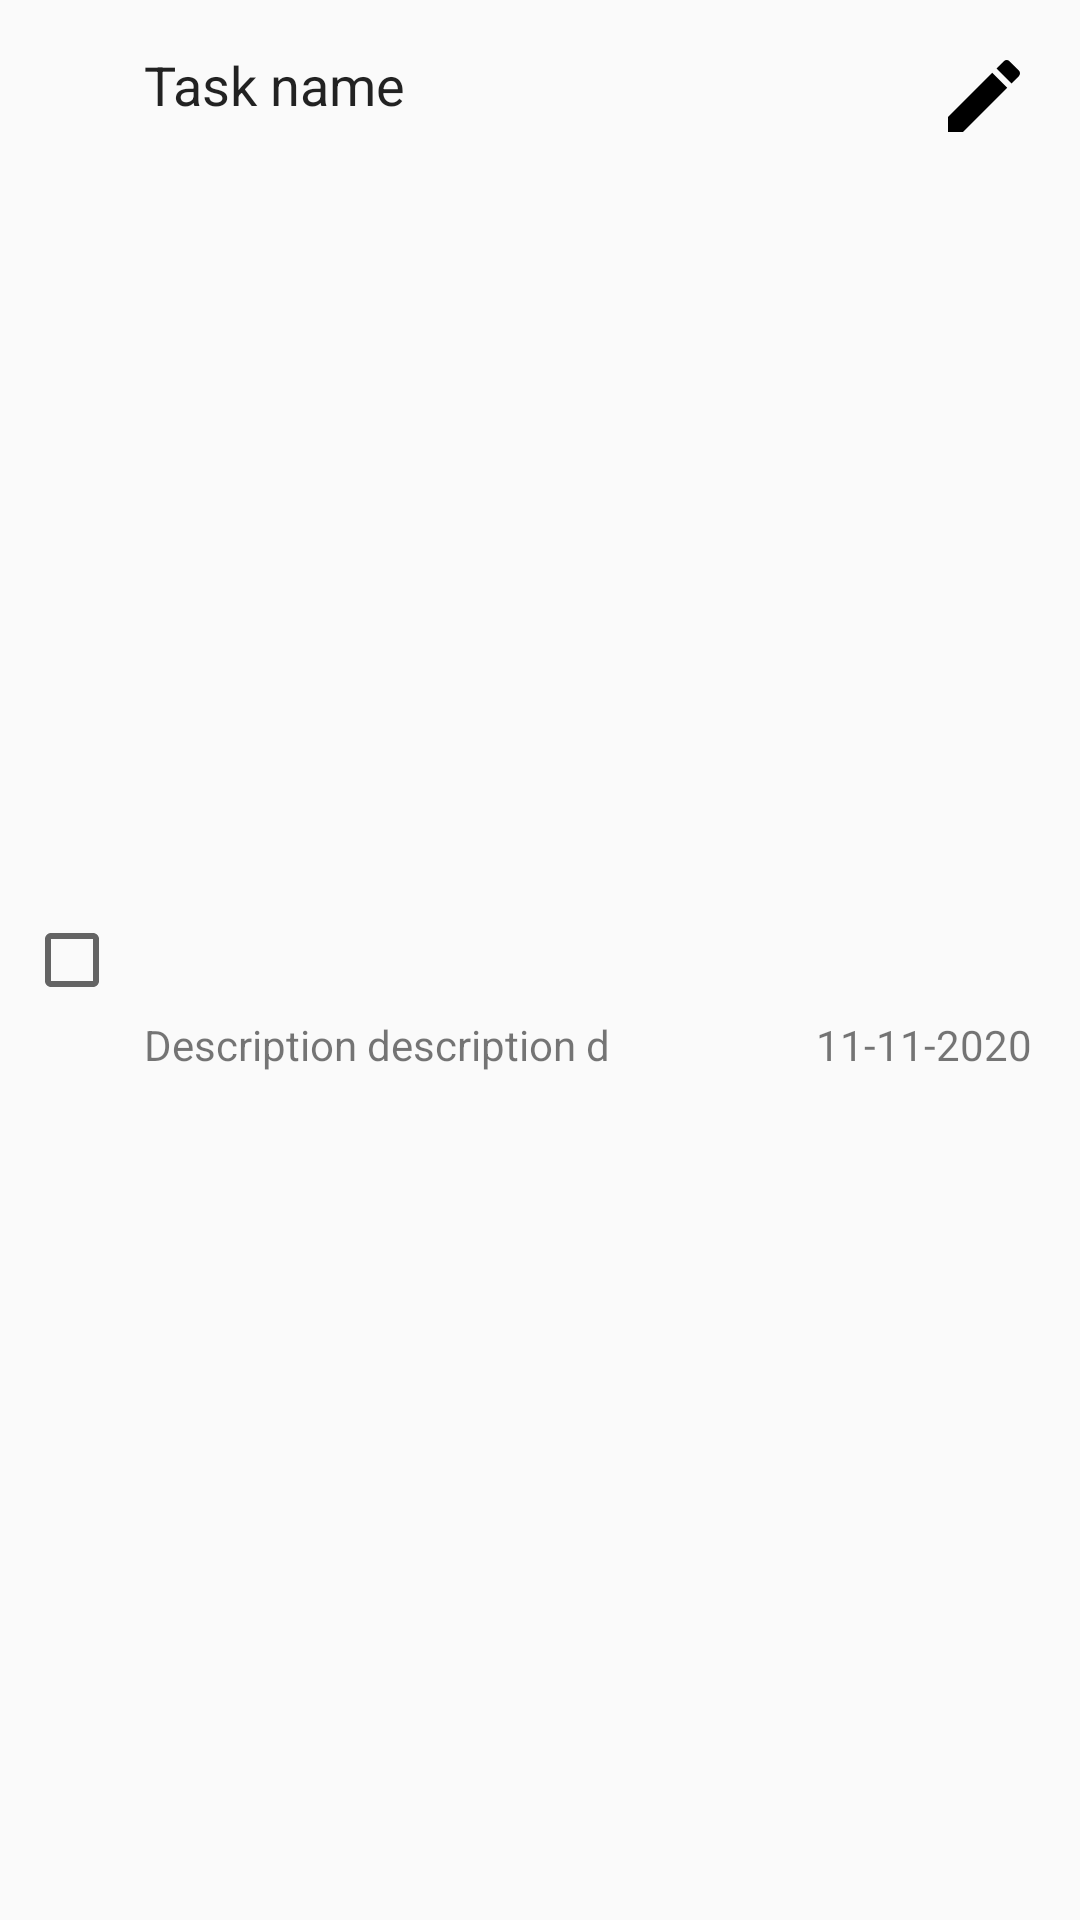

Screen size 1080*1920. Icon name, then its box in pixels as (x1, y1, x2, y2):
edit item: (948, 60, 1020, 132)
